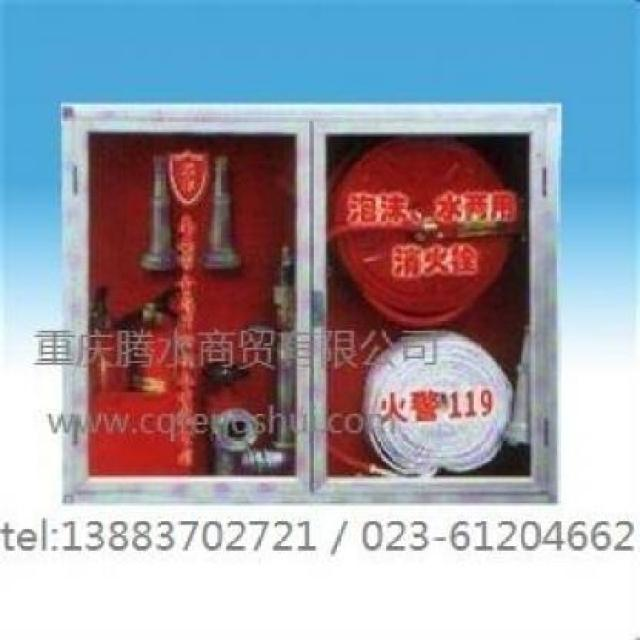firehydrant: (57, 99, 564, 513)
